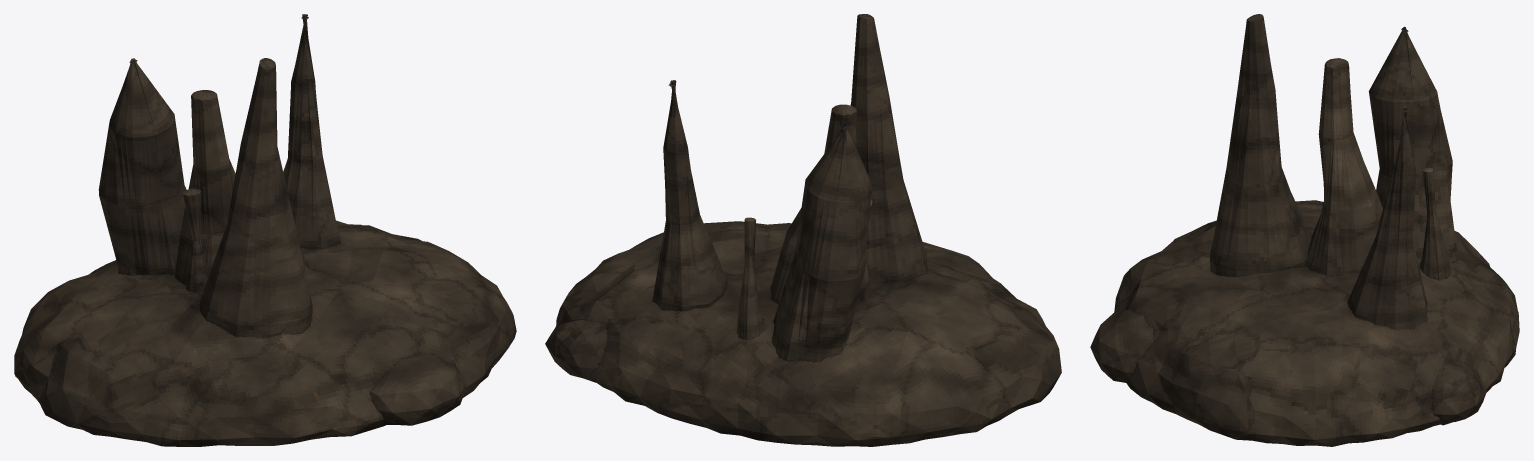
Rendered from mine_stalagmites_a.glb.
The picture shows the model from 3 angles, left to right: view 1: azimuth 30°, elevation 25°; view 2: azimuth 150°, elevation 25°; view 3: azimuth 270°, elevation 25°; orthographic projection. The views are drawn at different scales.
Parts seen in each view (by area): view 1: mine_stalagmites_a.001; view 2: mine_stalagmites_a.001; view 3: mine_stalagmites_a.001.
Part boxes in pixels (x1,y1,x2,y2): mine_stalagmites_a.001: (14, 14, 516, 446); mine_stalagmites_a.001: (545, 14, 1061, 446); mine_stalagmites_a.001: (1090, 14, 1519, 446).
Bounding box in the file's own units: 2.54 × 1.71 × 2.13.
1 material, 1 textured.
